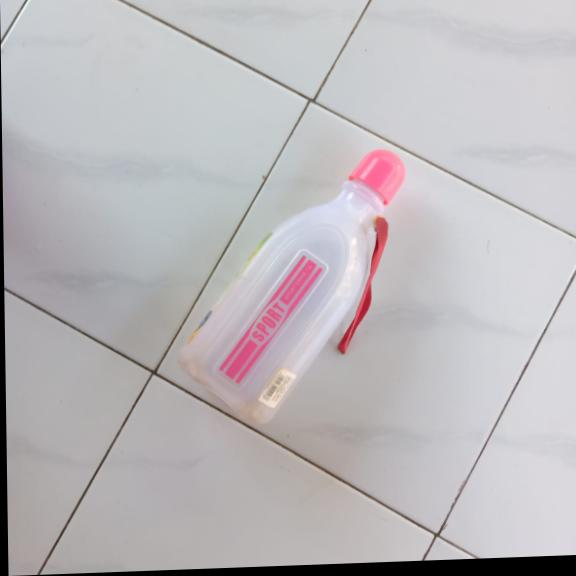Plastik: (173, 147, 412, 428)
